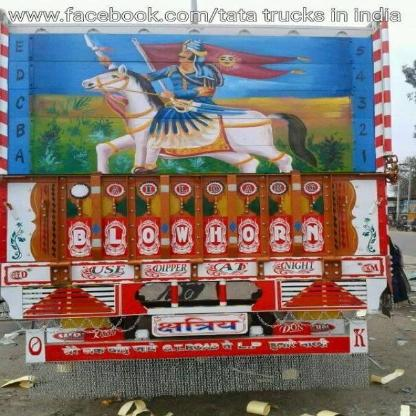truck: (5, 23, 393, 391)
